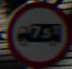Heavy Vehicles: (11, 7, 66, 57)
